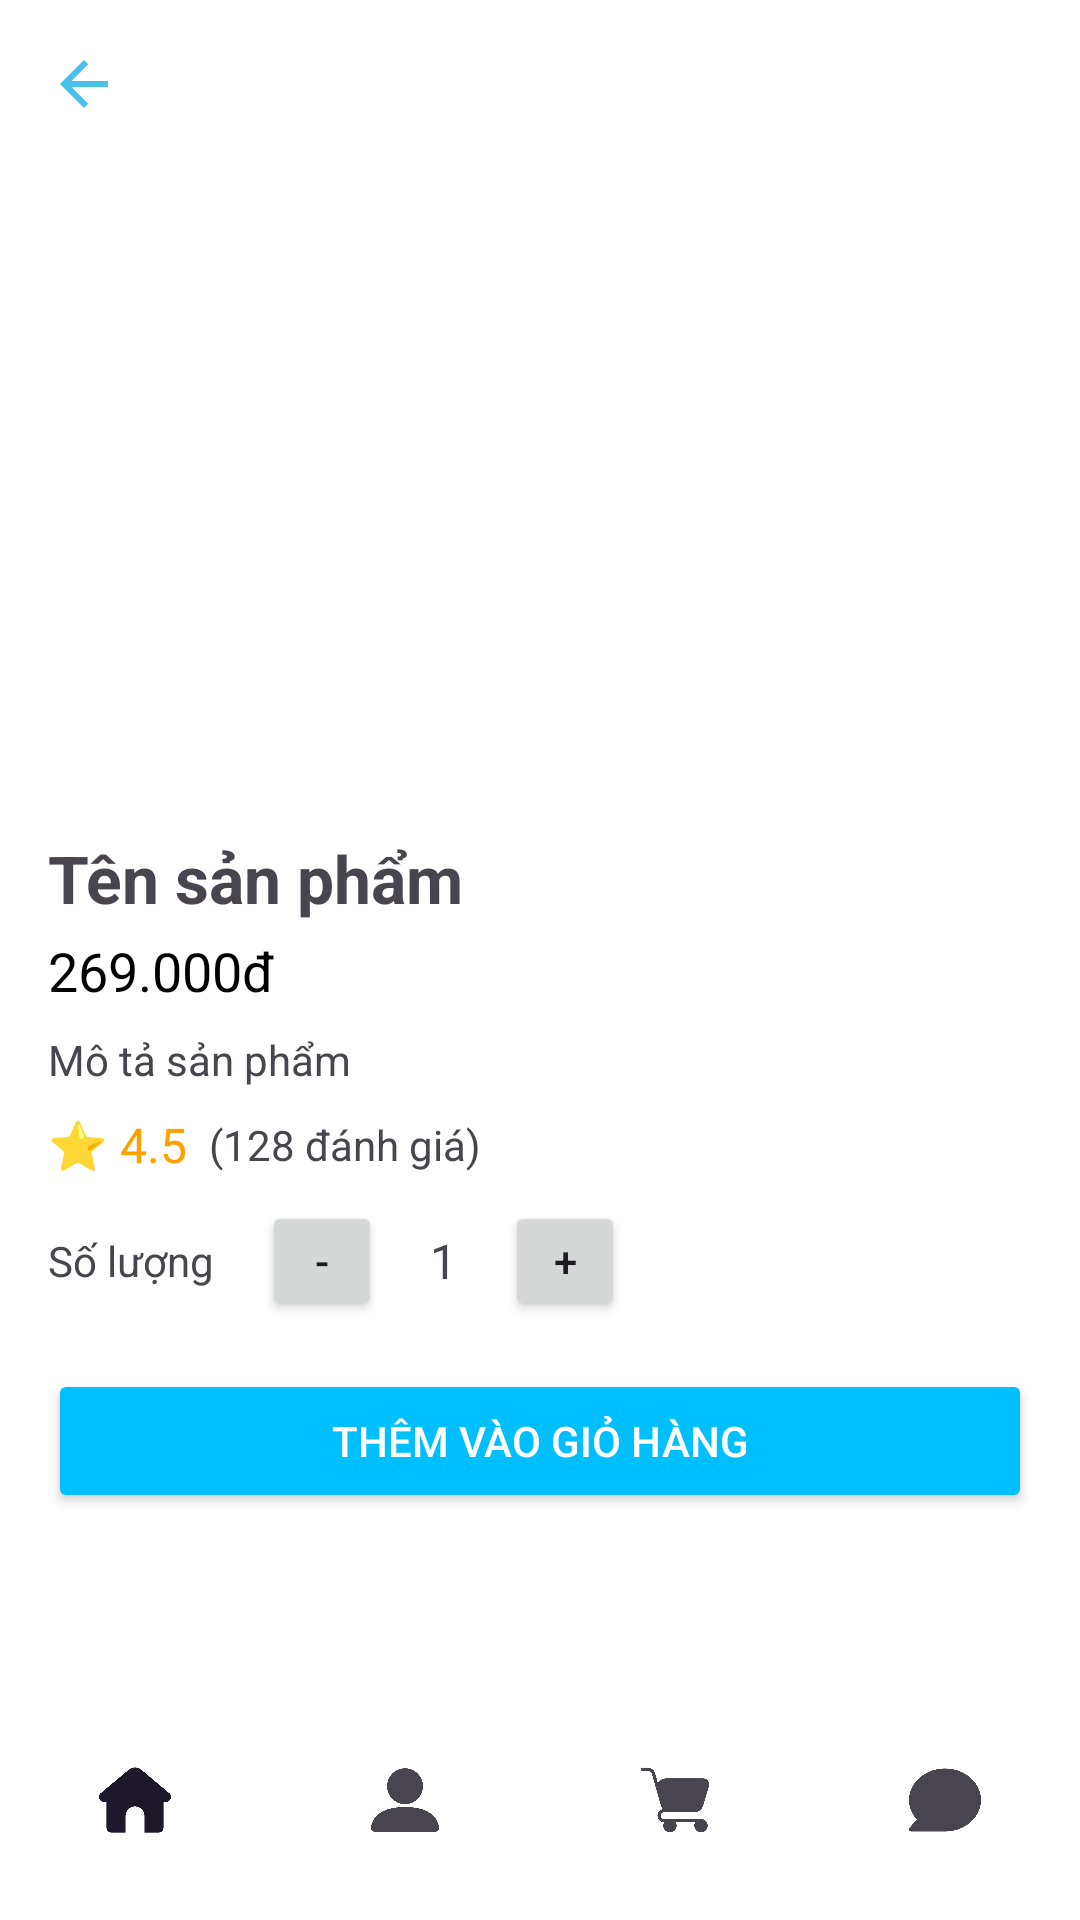

Icons on this 1080px×1920px Android screen, each with the point to tap as [x,y]:
Quay lại: [84,84]
